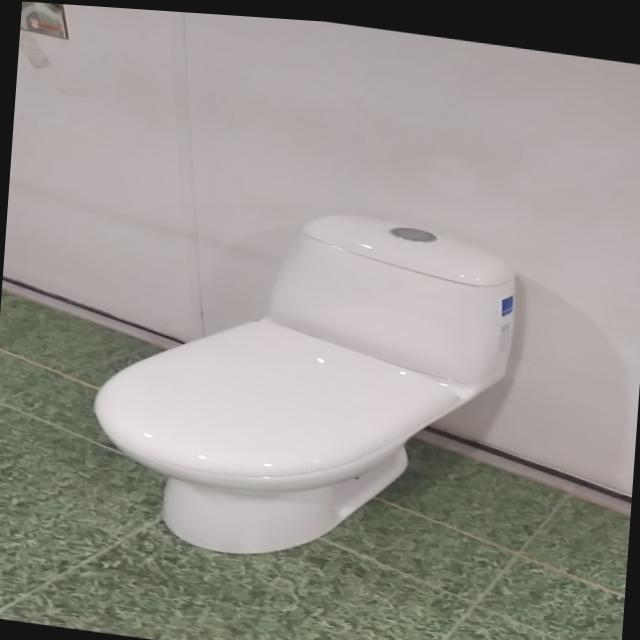toilet: (82, 177, 522, 585)
